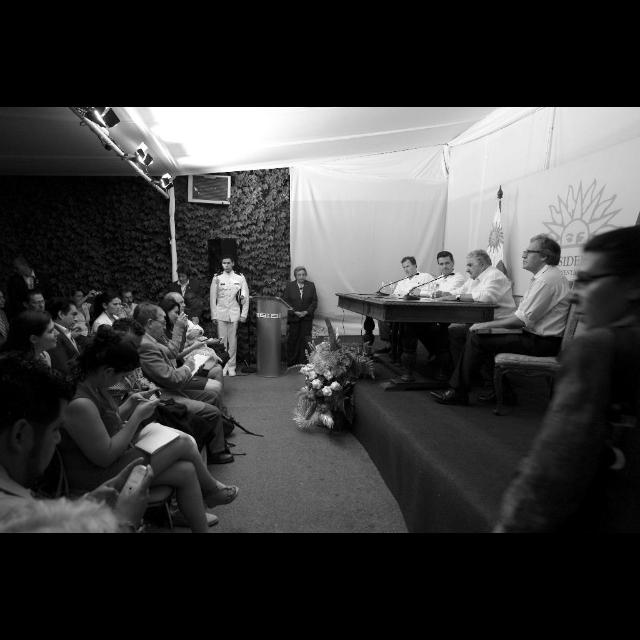Flower: (298, 342, 332, 378), (321, 386, 333, 398), (324, 368, 334, 382), (312, 380, 324, 390), (332, 382, 342, 393)
